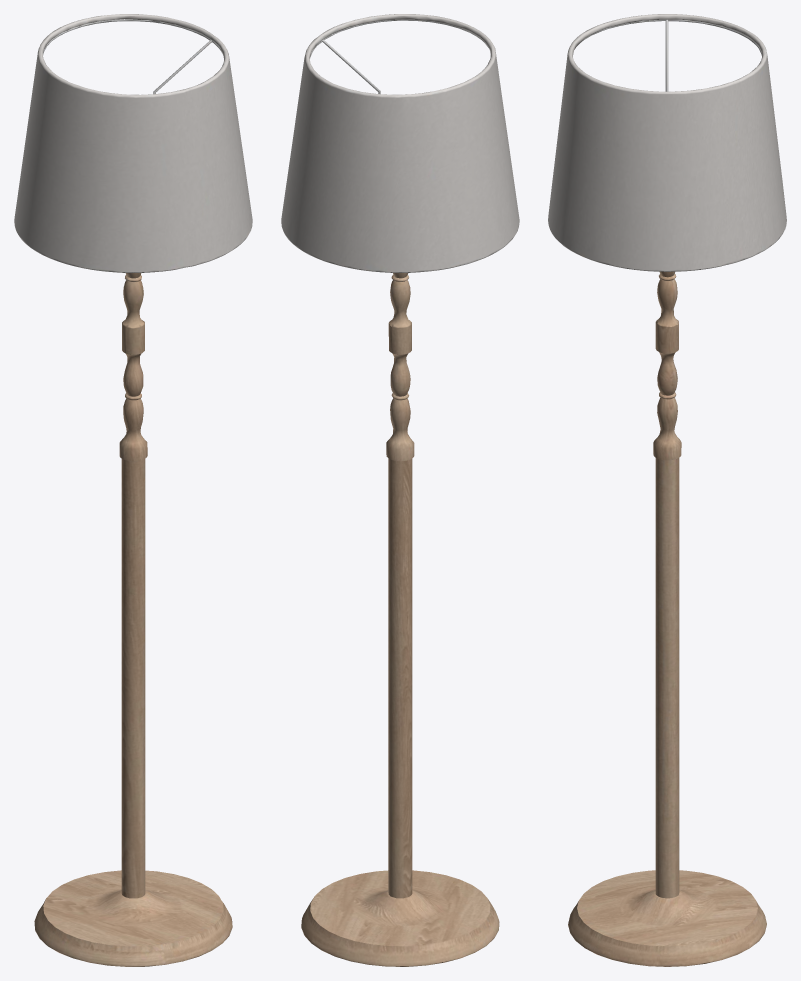
The model's file is LB-LR-FLOORLAMP-02.glb.
The picture shows the model from 3 angles, left to right: view 1: azimuth 30°, elevation 25°; view 2: azimuth 150°, elevation 25°; view 3: azimuth 270°, elevation 25°; orthographic projection.
Visible parts, largest first — view 1: Mesh_0; view 2: Mesh_0; view 3: Mesh_0.
Boxes of the visible parts, x1,y1,x2,y2 form: Mesh_0: (14, 14, 252, 966); Mesh_0: (281, 14, 519, 966); Mesh_0: (548, 14, 786, 966).
Size of the model in its own units: 0.3725 by 1.5 by 0.3721.
Materials: 1 (1 with a texture image).
